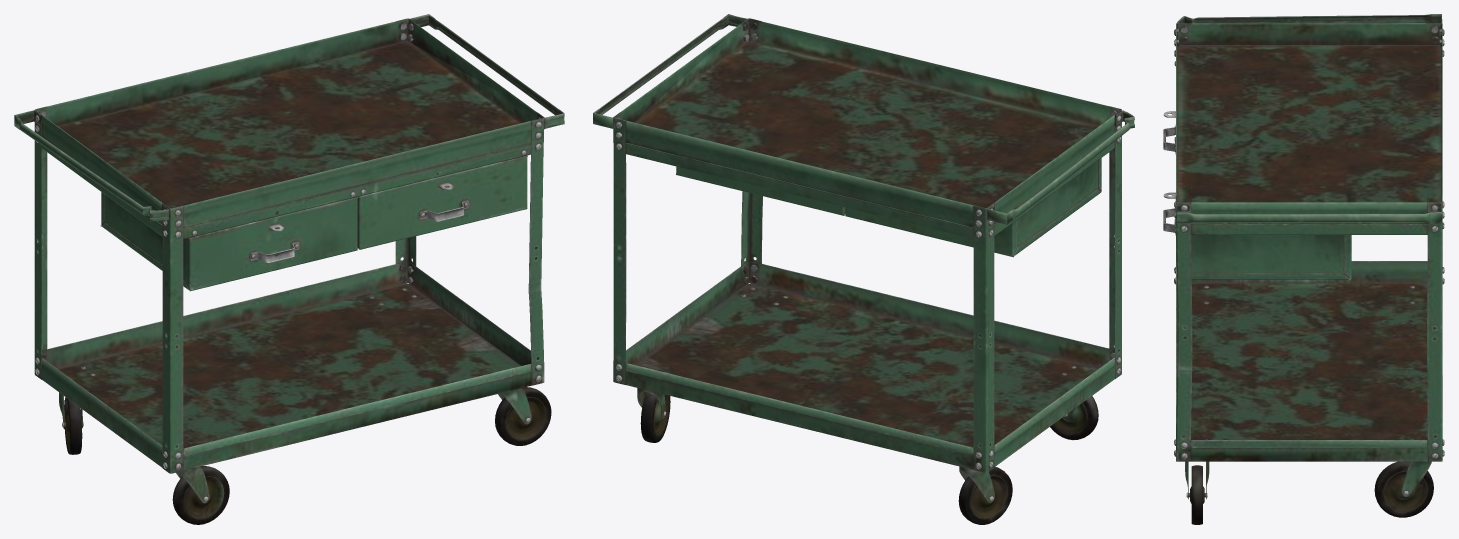
The model's file is tool_cart.glb.
The picture shows the model from 3 angles, left to right: view 1: azimuth 30°, elevation 25°; view 2: azimuth 150°, elevation 25°; view 3: azimuth 270°, elevation 25°; orthographic projection. The views are drawn at different scales.
Visible parts, largest first — view 1: tool_cart; view 2: tool_cart; view 3: tool_cart.
Part boxes in pixels (x1=…): tool_cart: x1=14, y1=14, x2=564, y2=524; tool_cart: x1=593, y1=14, x2=1134, y2=524; tool_cart: x1=1163, y1=14, x2=1444, y2=524.
Bounding box in the file's own units: 1.27 × 0.9646 × 0.7536.
1 material, 1 textured.
